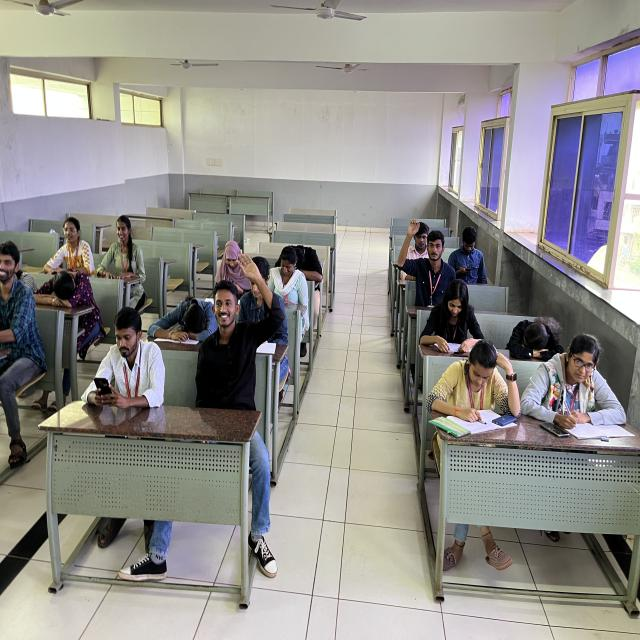Hand Rising: (396, 210, 455, 307)
Reading: (430, 331, 508, 422), (422, 276, 484, 358), (250, 256, 288, 370)
Sleeping: (151, 270, 220, 348), (32, 264, 102, 325), (504, 310, 564, 364), (284, 230, 328, 288)
Using Phone: (88, 304, 164, 414), (210, 227, 255, 300), (270, 242, 308, 314), (451, 222, 488, 288)
Writing: (525, 341, 637, 426)
